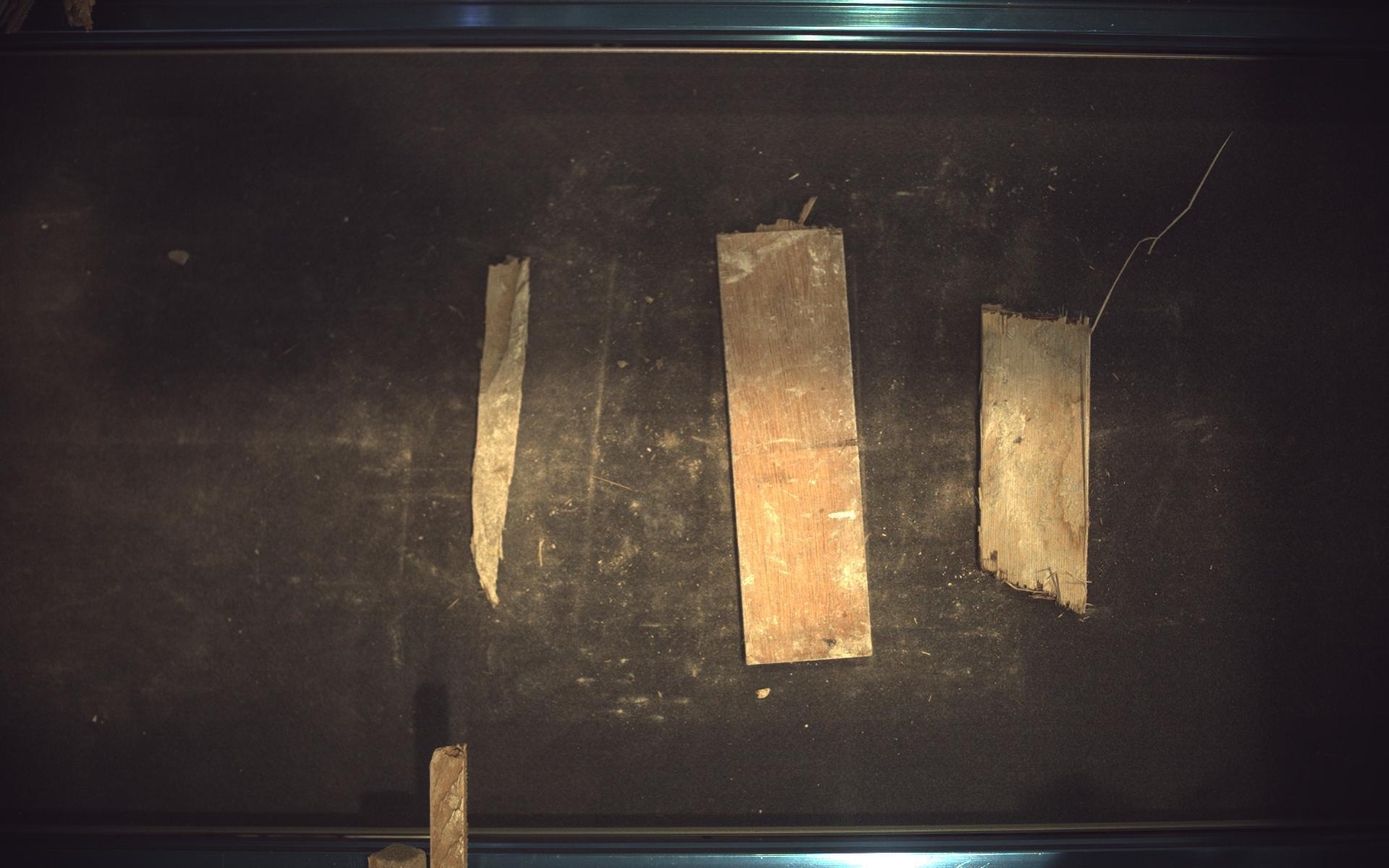wood: (718, 199, 874, 665), (980, 305, 1093, 615), (471, 256, 530, 607), (430, 745, 468, 868), (368, 845, 427, 868)
